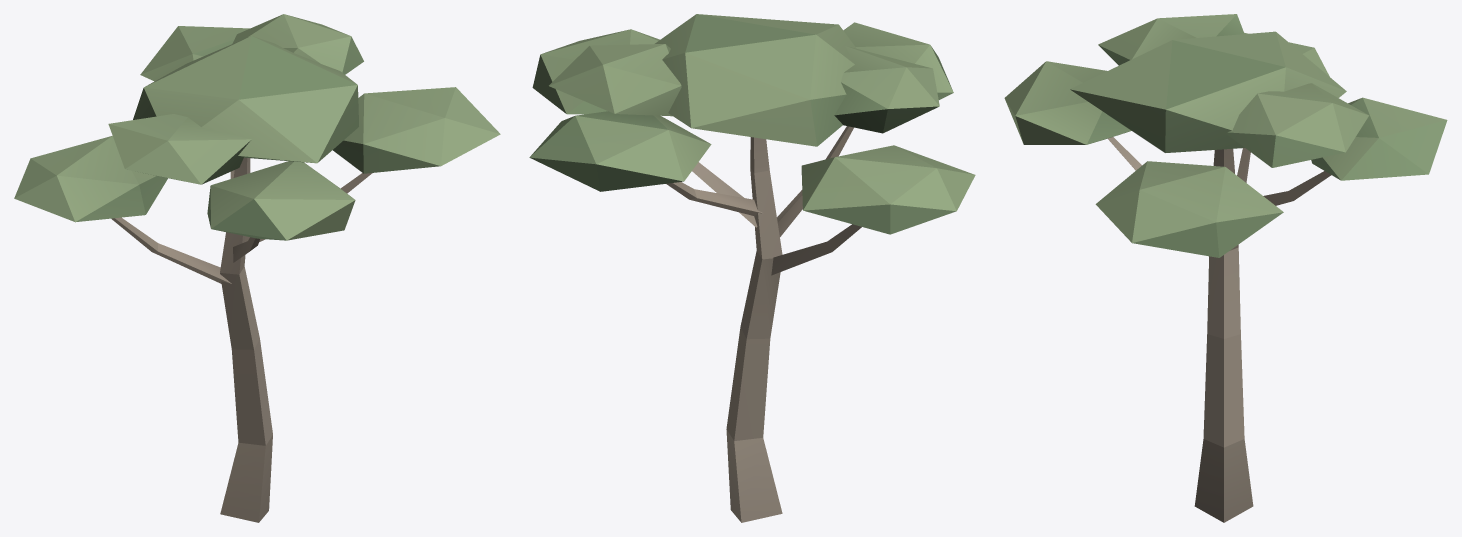
Rendered from pine.lod1.glb.
3 views of the same model, side by side, from view 1: azimuth 30°, elevation 25°; view 2: azimuth 150°, elevation 25°; view 3: azimuth 270°, elevation 25° (orthographic). The views are drawn at different scales.
Bounding box in the file's own units: 6.84 × 6.95 × 6.03.
